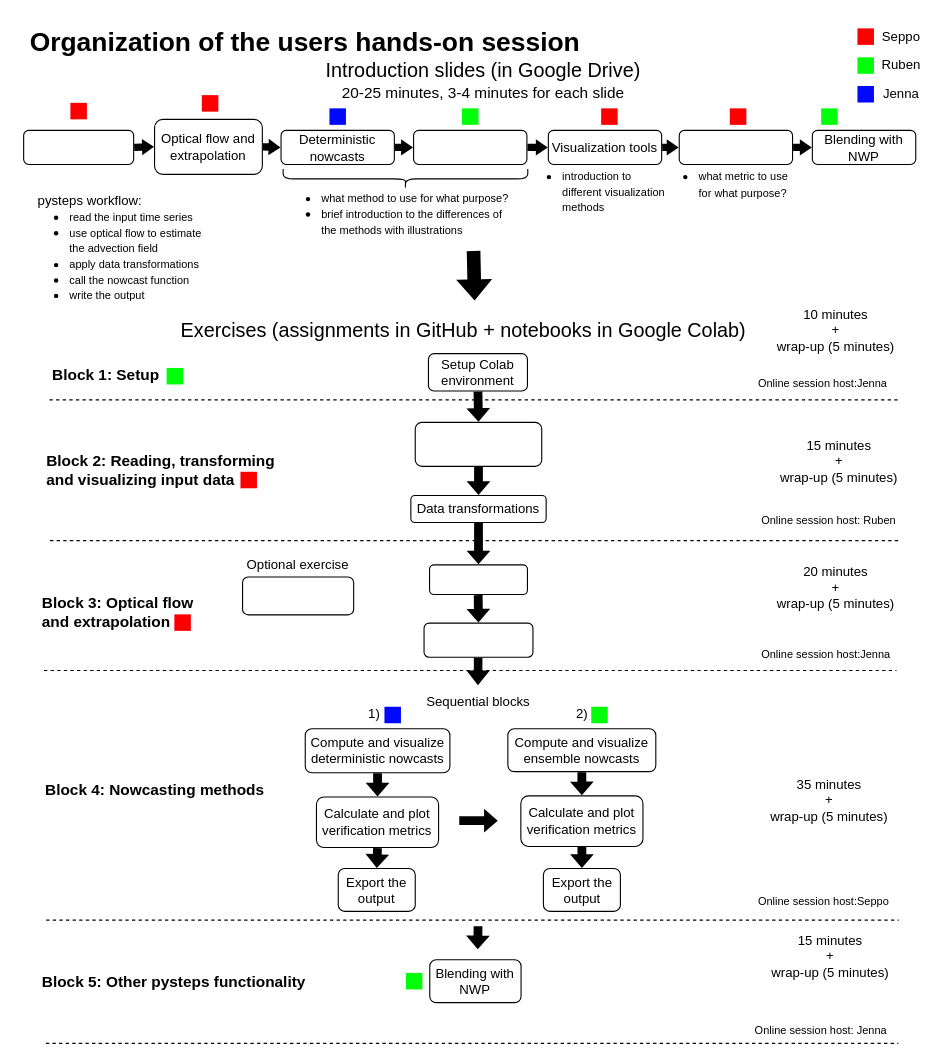
The diagram is 942 pixels wide and 1064 high, and some of its shapes have lost their labels. Here are the shapes that lost their labels. From the top down, the centre of each, then its label:
At point (78, 146): "Introduction".
At point (470, 146): "Ensemble nowcasts".
At point (735, 146): "Verification tools".
At point (478, 443): "Read and visualize input data".
At point (297, 595): "Advection-based interpolation".
At point (477, 579): "Optical flow".
At point (478, 639): "Extrapolation".
